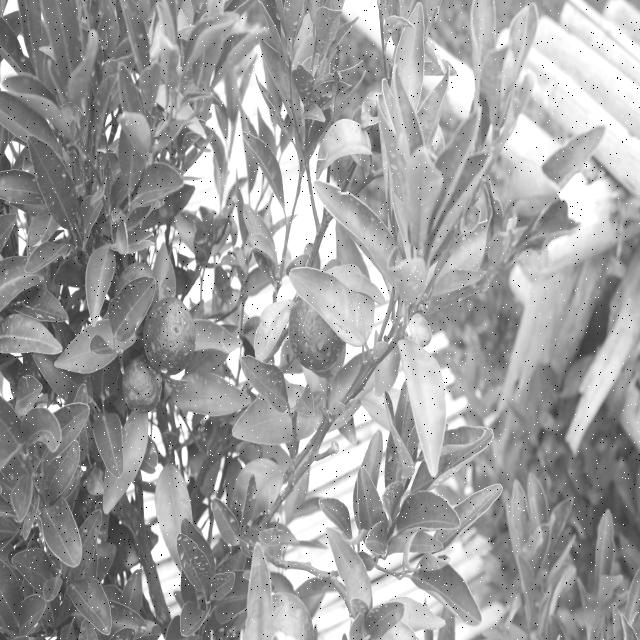greening: (292, 263, 374, 350), (403, 334, 453, 474), (236, 542, 284, 636), (152, 469, 196, 556), (234, 452, 289, 518), (331, 532, 372, 612), (316, 119, 368, 177)
